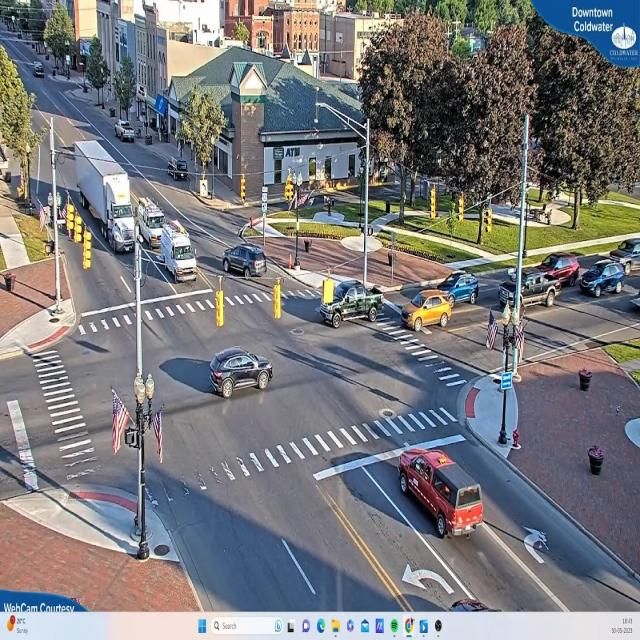car: (397, 446, 485, 539), (210, 348, 272, 400), (323, 279, 387, 327), (394, 293, 456, 331), (500, 274, 563, 311), (579, 263, 627, 297), (531, 256, 579, 289), (221, 246, 266, 279), (442, 276, 480, 304), (117, 122, 137, 144)
truck: (70, 143, 138, 254)
